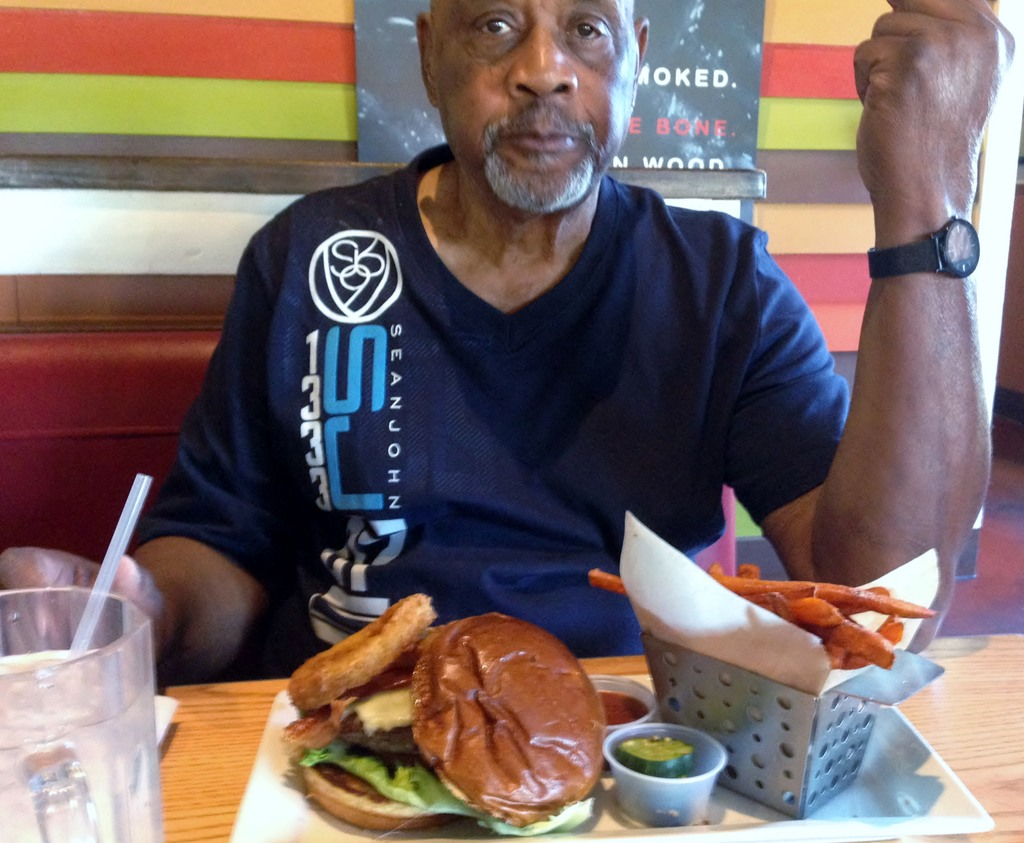Hamburger: (277, 593, 604, 836)
